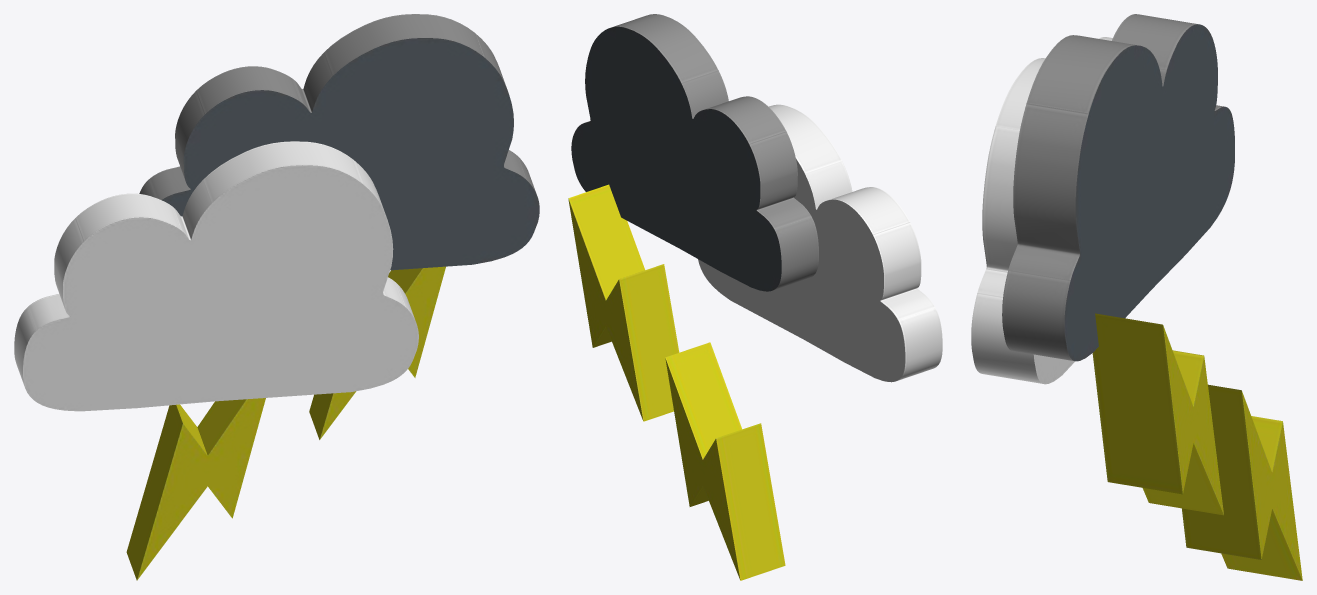
File: 3d_trovoada.glb
The picture shows the model from 3 angles, left to right: view 1: azimuth 30°, elevation 25°; view 2: azimuth 150°, elevation 25°; view 3: azimuth 270°, elevation 25°; orthographic projection. The views are drawn at different scales.
Parts seen in each view (by area): view 1: node_id8; view 2: node_id8; view 3: node_id8.
Part boxes in pixels (<box>): node_id8: <box>14,14,539,580</box>; node_id8: <box>568,14,942,580</box>; node_id8: <box>971,14,1302,580</box>.
Bounding box in the file's own units: 0.4661 × 0.512 × 0.2401.
Materials: 1 (1 with a texture image).
